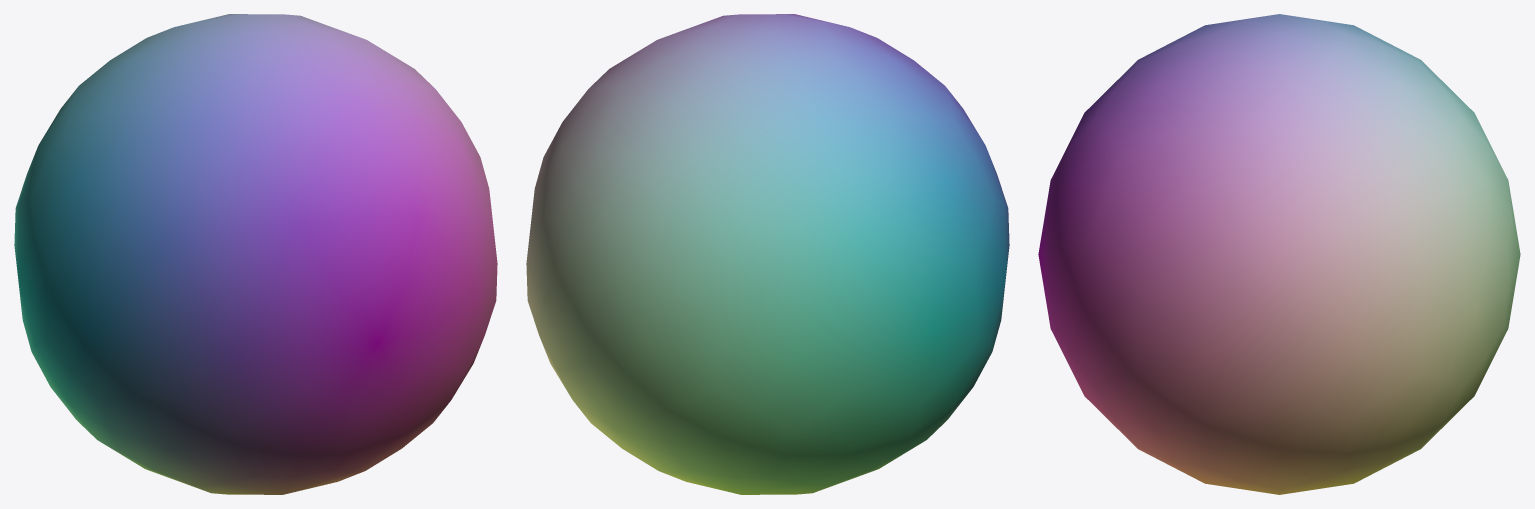
Rendered from 480棱角球.fbx.
3 views of the same model, side by side, from view 1: azimuth 30°, elevation 25°; view 2: azimuth 150°, elevation 25°; view 3: azimuth 270°, elevation 25° (orthographic).
Visible parts, largest first — view 1: 480棱角球; view 2: 480棱角球; view 3: 480棱角球.
Boxes of the visible parts, box(x1,y1,x2,y2) form: 480棱角球: box(14, 14, 497, 494); 480棱角球: box(526, 14, 1009, 494); 480棱角球: box(1038, 14, 1520, 494).
Size of the model in its own units: 1.85 by 1.86 by 1.85.
